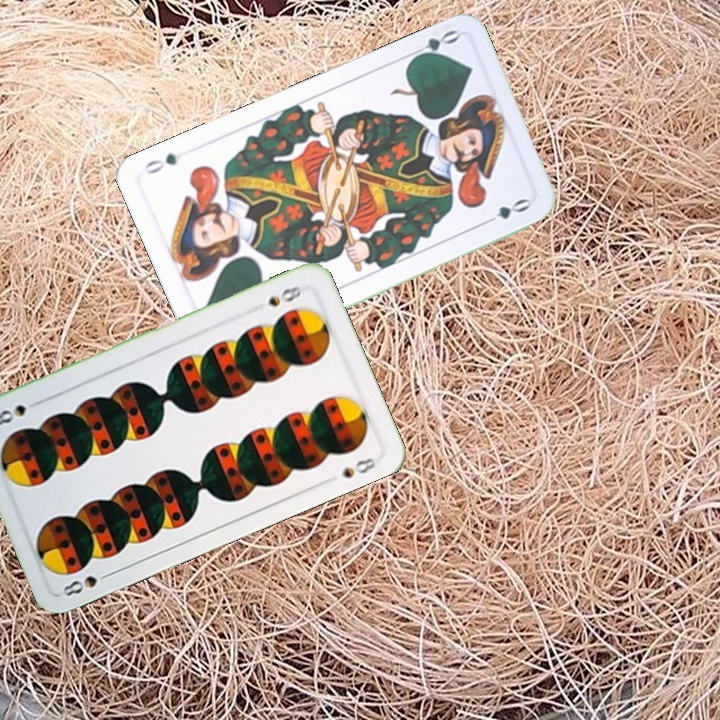GO: (404, 25, 461, 64)
S8: (58, 568, 115, 599), (264, 281, 304, 309)
